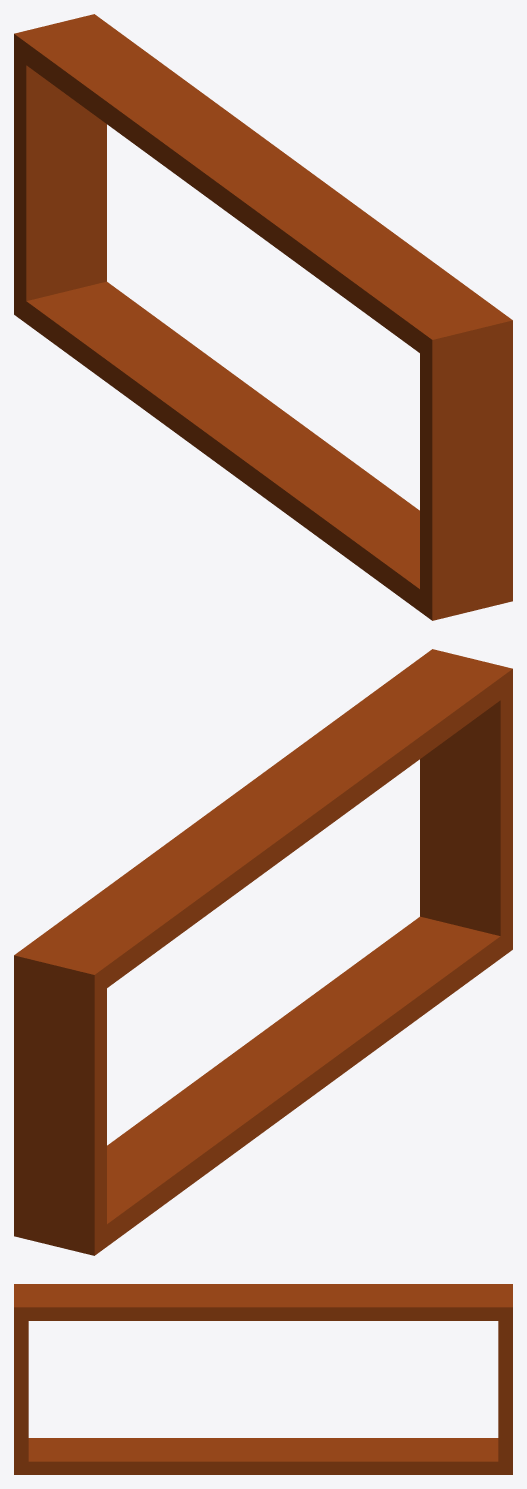
The model's file is ext window frame.obj.
3 views of the same model, one above another, from view 1: azimuth 30°, elevation 25°; view 2: azimuth 150°, elevation 25°; view 3: azimuth 270°, elevation 25° (orthographic). The views are drawn at different scales.
Parts seen in each view (by area): view 1: A-Wall_curve_.042_Mesh.044; view 2: A-Wall_curve_.042_Mesh.044; view 3: A-Wall_curve_.042_Mesh.044.
Part boxes in pixels (box(x1,y1,x2,y2)): A-Wall_curve_.042_Mesh.044: box(14, 14, 512, 620); A-Wall_curve_.042_Mesh.044: box(14, 649, 512, 1255); A-Wall_curve_.042_Mesh.044: box(14, 1284, 512, 1474).
Bounding box in the file's own units: 150 × 500 × 1350.
